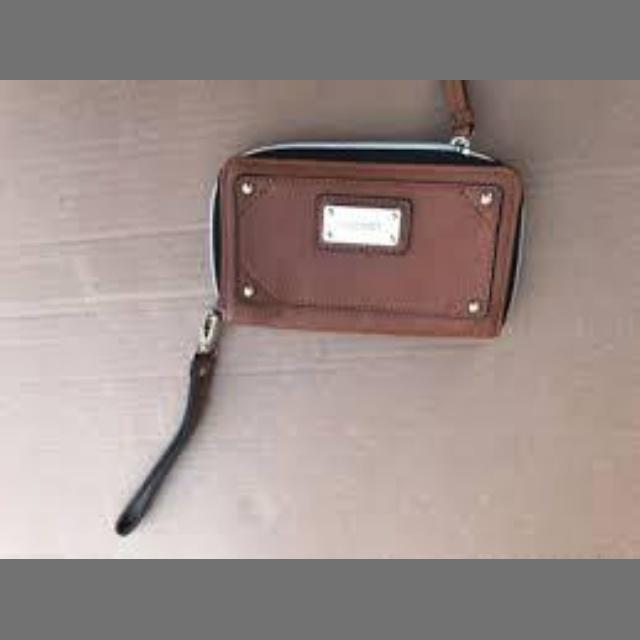Wallet: (212, 138, 524, 342)
